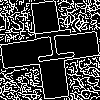H: (25, 25, 75, 68)
